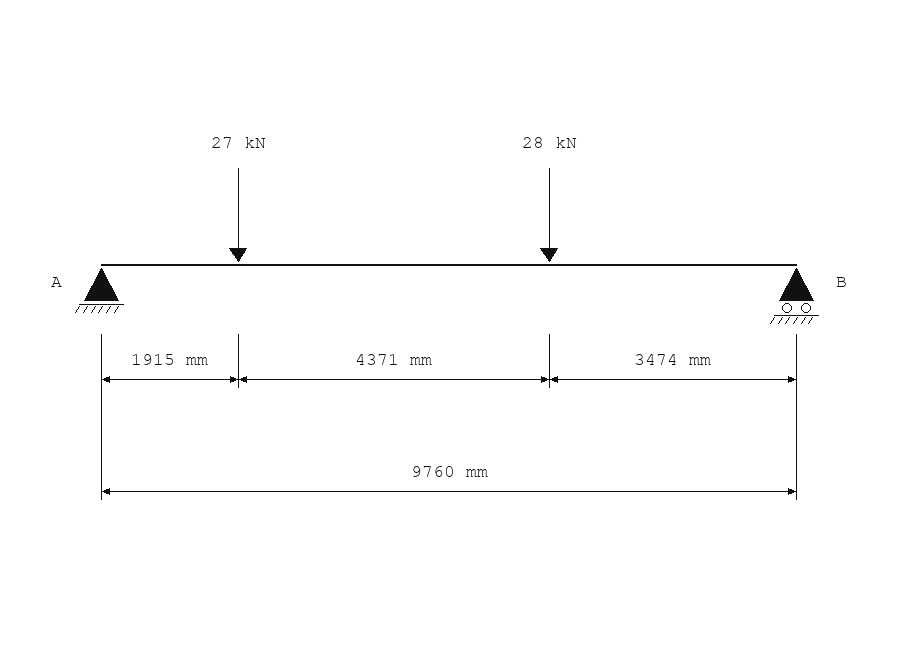pin_support: (75, 268, 124, 313)
point_load: (229, 168, 247, 262), (540, 168, 558, 262)
roller_support: (770, 268, 819, 324)
